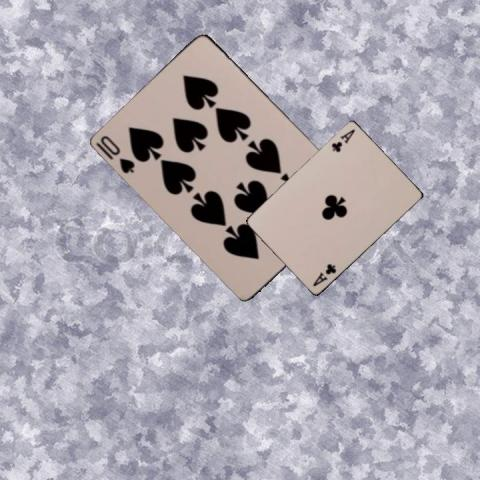10s: (98, 132, 137, 174)
Ac: (328, 126, 356, 153), (310, 261, 338, 287)
